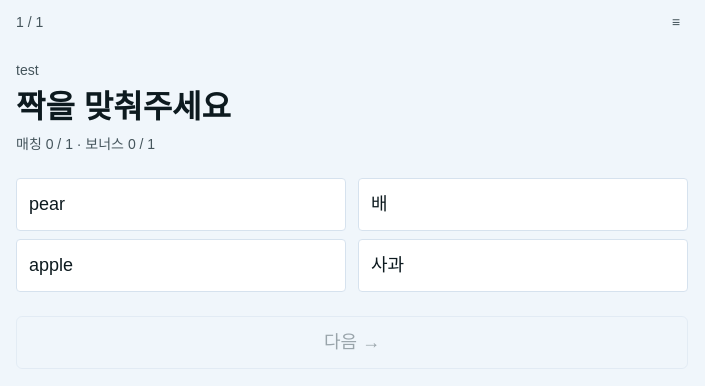
Test case: WordMatch: 필수 짝 완료 후에도 남은 보너스 짝을 맞출 수 있다
Click the button "apple".
click(51, 265)  # box [16, 239, 346, 292]
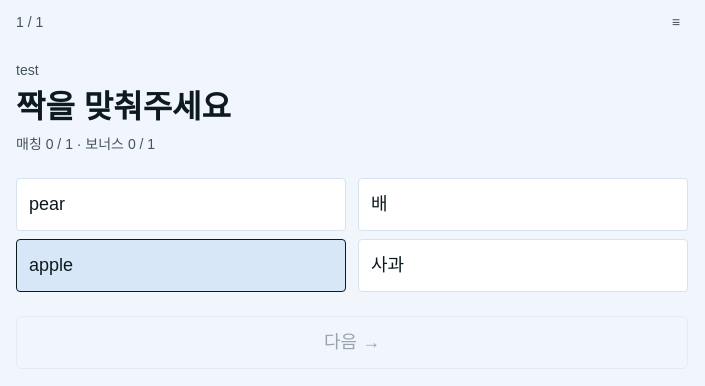
Click the button "사과".
click(388, 265)  # box [358, 239, 688, 292]
Wait 1500 ms
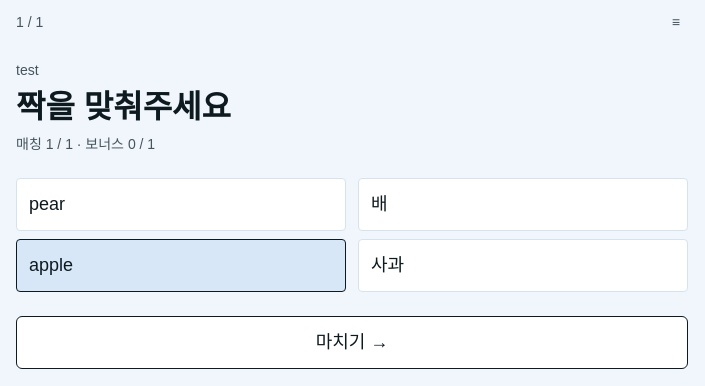
Click the button "pear".
click(47, 204)  # box [16, 178, 346, 231]
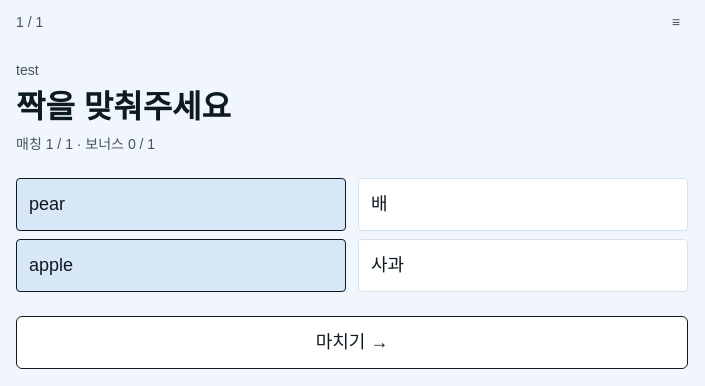
Click the button "배".
click(379, 204)  # box [358, 178, 688, 231]
Wait 1500 ms
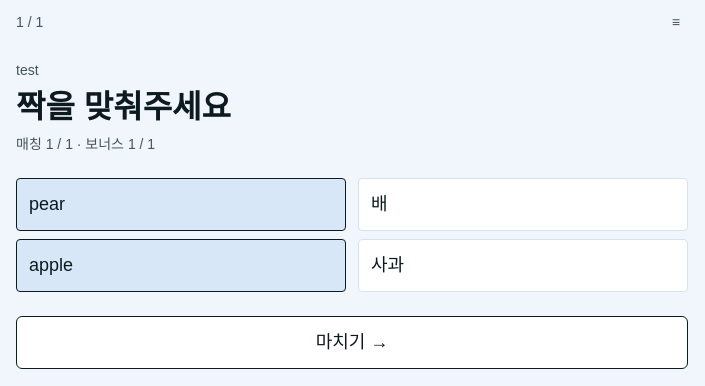
Expected: the text "보너스 1 / 1" is shown, [73, 136, 155, 152]
